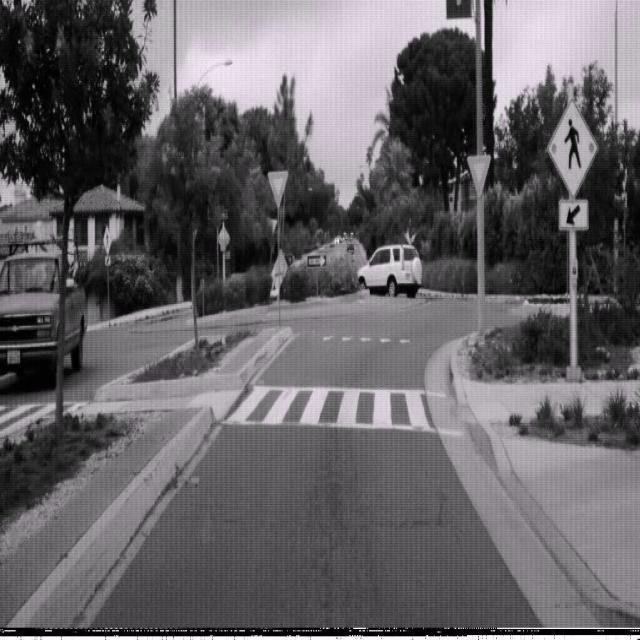pedestrianCrossing: (546, 96, 599, 200)
yield: (467, 154, 491, 198), (268, 168, 288, 208)
